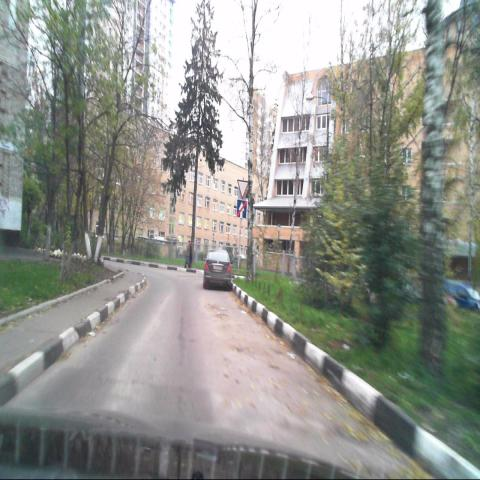2_4: (237, 180, 248, 199)
5_6: (236, 200, 246, 217)
